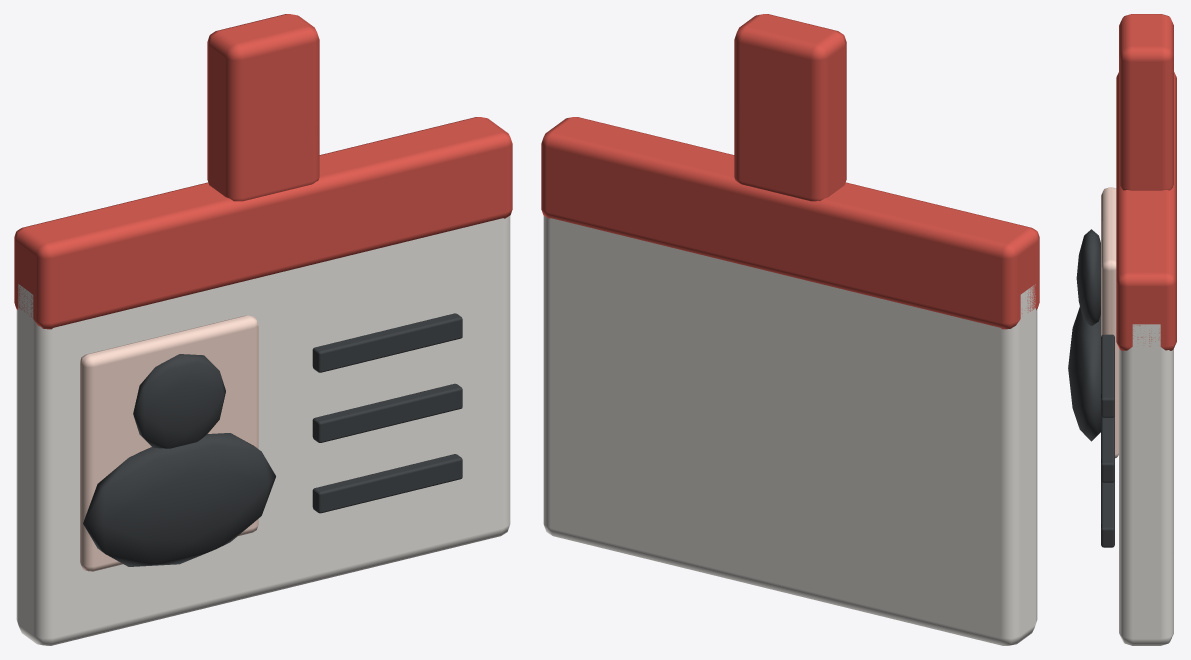
Rendered from school-id-badge.glb.
The picture shows the model from 3 angles, left to right: view 1: azimuth 30°, elevation 25°; view 2: azimuth 150°, elevation 25°; view 3: azimuth 270°, elevation 25°; orthographic projection. The views are drawn at different scales.
Parts seen in each view (by area): view 1: card, header, clip, shoulders, portrait, head, line-0, line-1, line-2; view 2: card, header, clip; view 3: card, header, clip, shoulders, portrait, head, line-0, line-1, line-2.
Part boxes in pixels (<box>): card: <box>16,215,510,645</box>; header: <box>14,117,512,329</box>; clip: <box>207,14,319,201</box>; shoulders: <box>83,433,275,566</box>; portrait: <box>80,315,258,571</box>; head: <box>133,354,225,448</box>; line-0: <box>312,313,462,372</box>; line-1: <box>312,383,462,442</box>; line-2: <box>312,454,462,513</box>; card: <box>543,215,1037,645</box>; header: <box>541,117,1039,329</box>; clip: <box>734,14,846,201</box>; card: <box>1119,324,1173,645</box>; header: <box>1116,72,1176,350</box>; clip: <box>1119,14,1173,190</box>; shoulders: <box>1068,307,1100,441</box>; portrait: <box>1101,187,1118,458</box>; head: <box>1076,229,1100,325</box>; line-0: <box>1101,334,1114,417</box>; line-1: <box>1101,415,1114,482</box>; line-2: <box>1101,480,1114,547</box>.
Size of the model in its own units: 0.92 by 1.03 by 0.1975.
